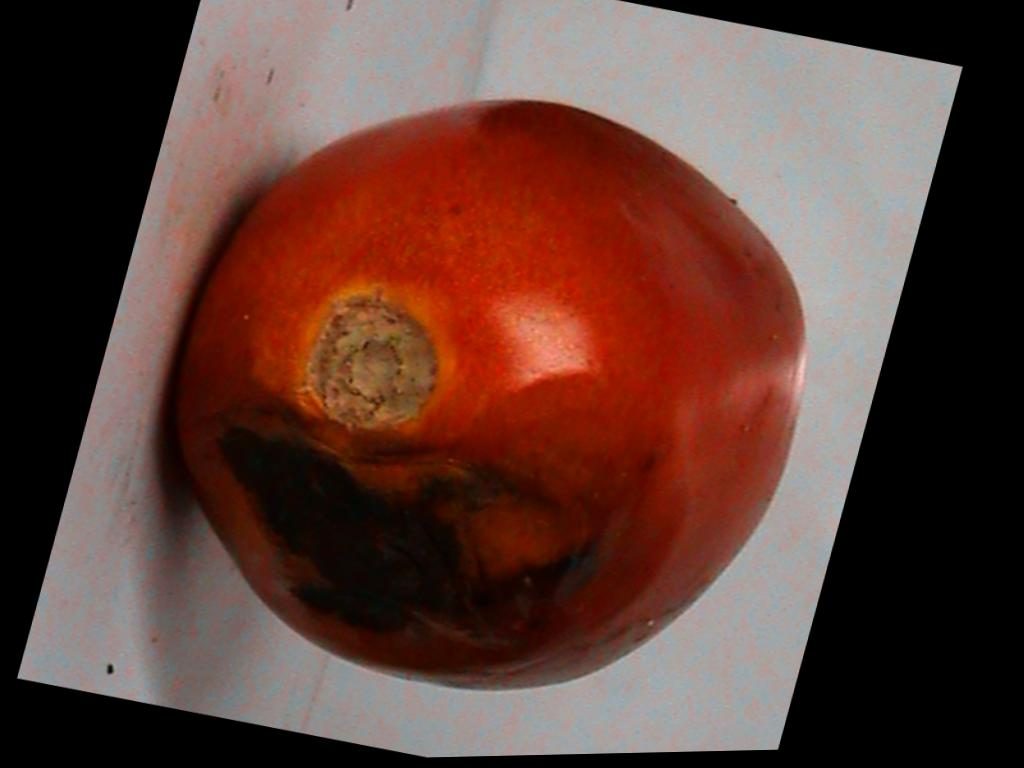rot_mold_decay: (211, 426, 592, 647)
tomato: (179, 101, 804, 688)
